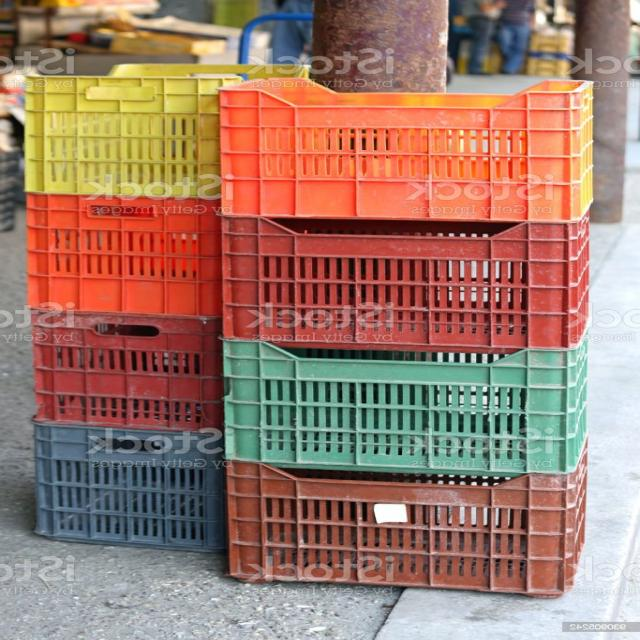plastic: (216, 77, 596, 596), (23, 61, 238, 550)
